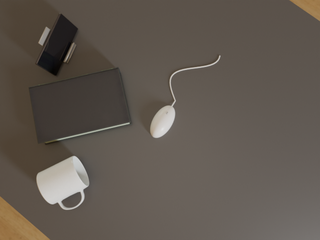book: (29, 67, 132, 145)
cup: (37, 156, 89, 209)
mouse: (150, 106, 175, 138)
phone: (36, 13, 78, 75)
